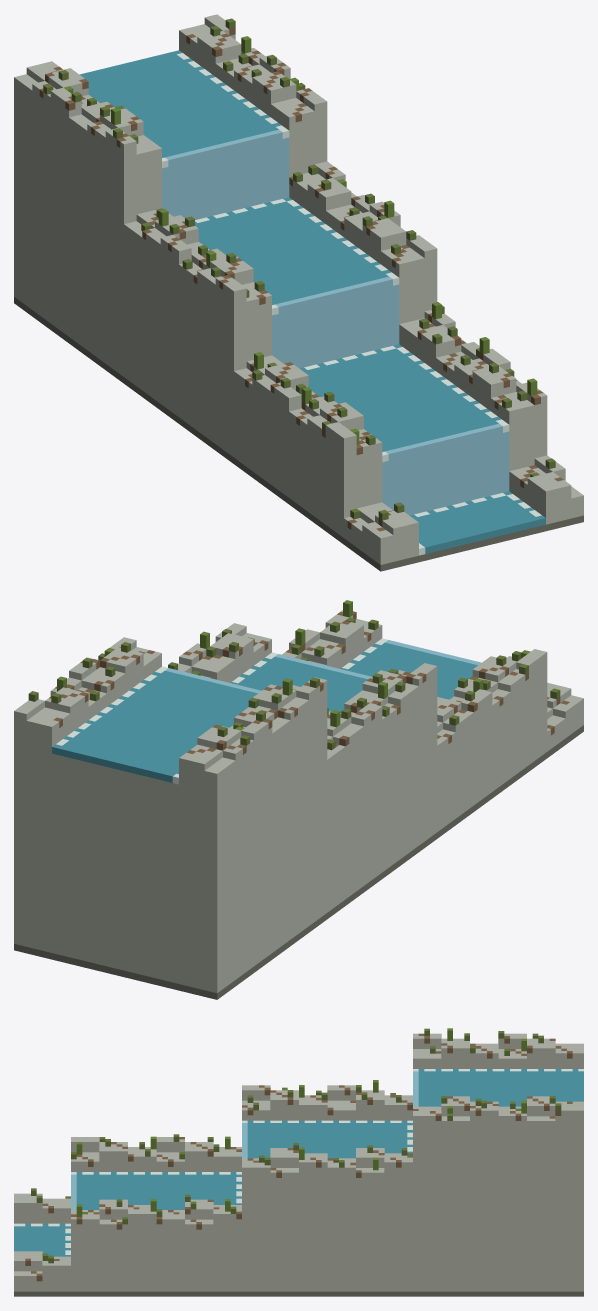
Rendered from visual-far.glb.
3 renders of one model, top to bottom at view 1: azimuth 30°, elevation 25°; view 2: azimuth 150°, elevation 25°; view 3: azimuth 270°, elevation 25°, orthographic. The views are drawn at different scales.
Visible parts, largest first — view 1: 多级跌水与瀑段衔接组件; view 2: 多级跌水与瀑段衔接组件; view 3: 多级跌水与瀑段衔接组件.
Boxes of the visible parts, box(x1,y1,x2,y2) form: 多级跌水与瀑段衔接组件: box(14, 14, 583, 571); 多级跌水与瀑段衔接组件: box(14, 600, 583, 999); 多级跌水与瀑段衔接组件: box(14, 1028, 583, 1296).
Size of the model in its own units: 6.4 by 7.6 by 20.
8 materials, 5 textured.
